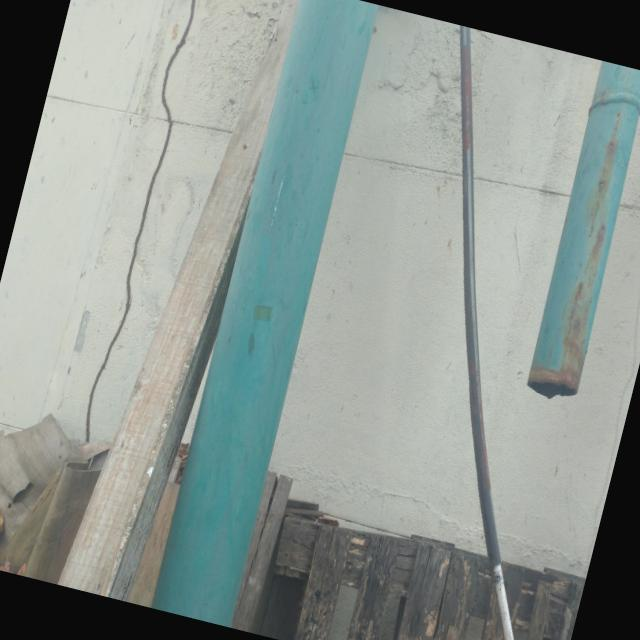gas: (151, 0, 375, 627), (527, 61, 640, 390)
